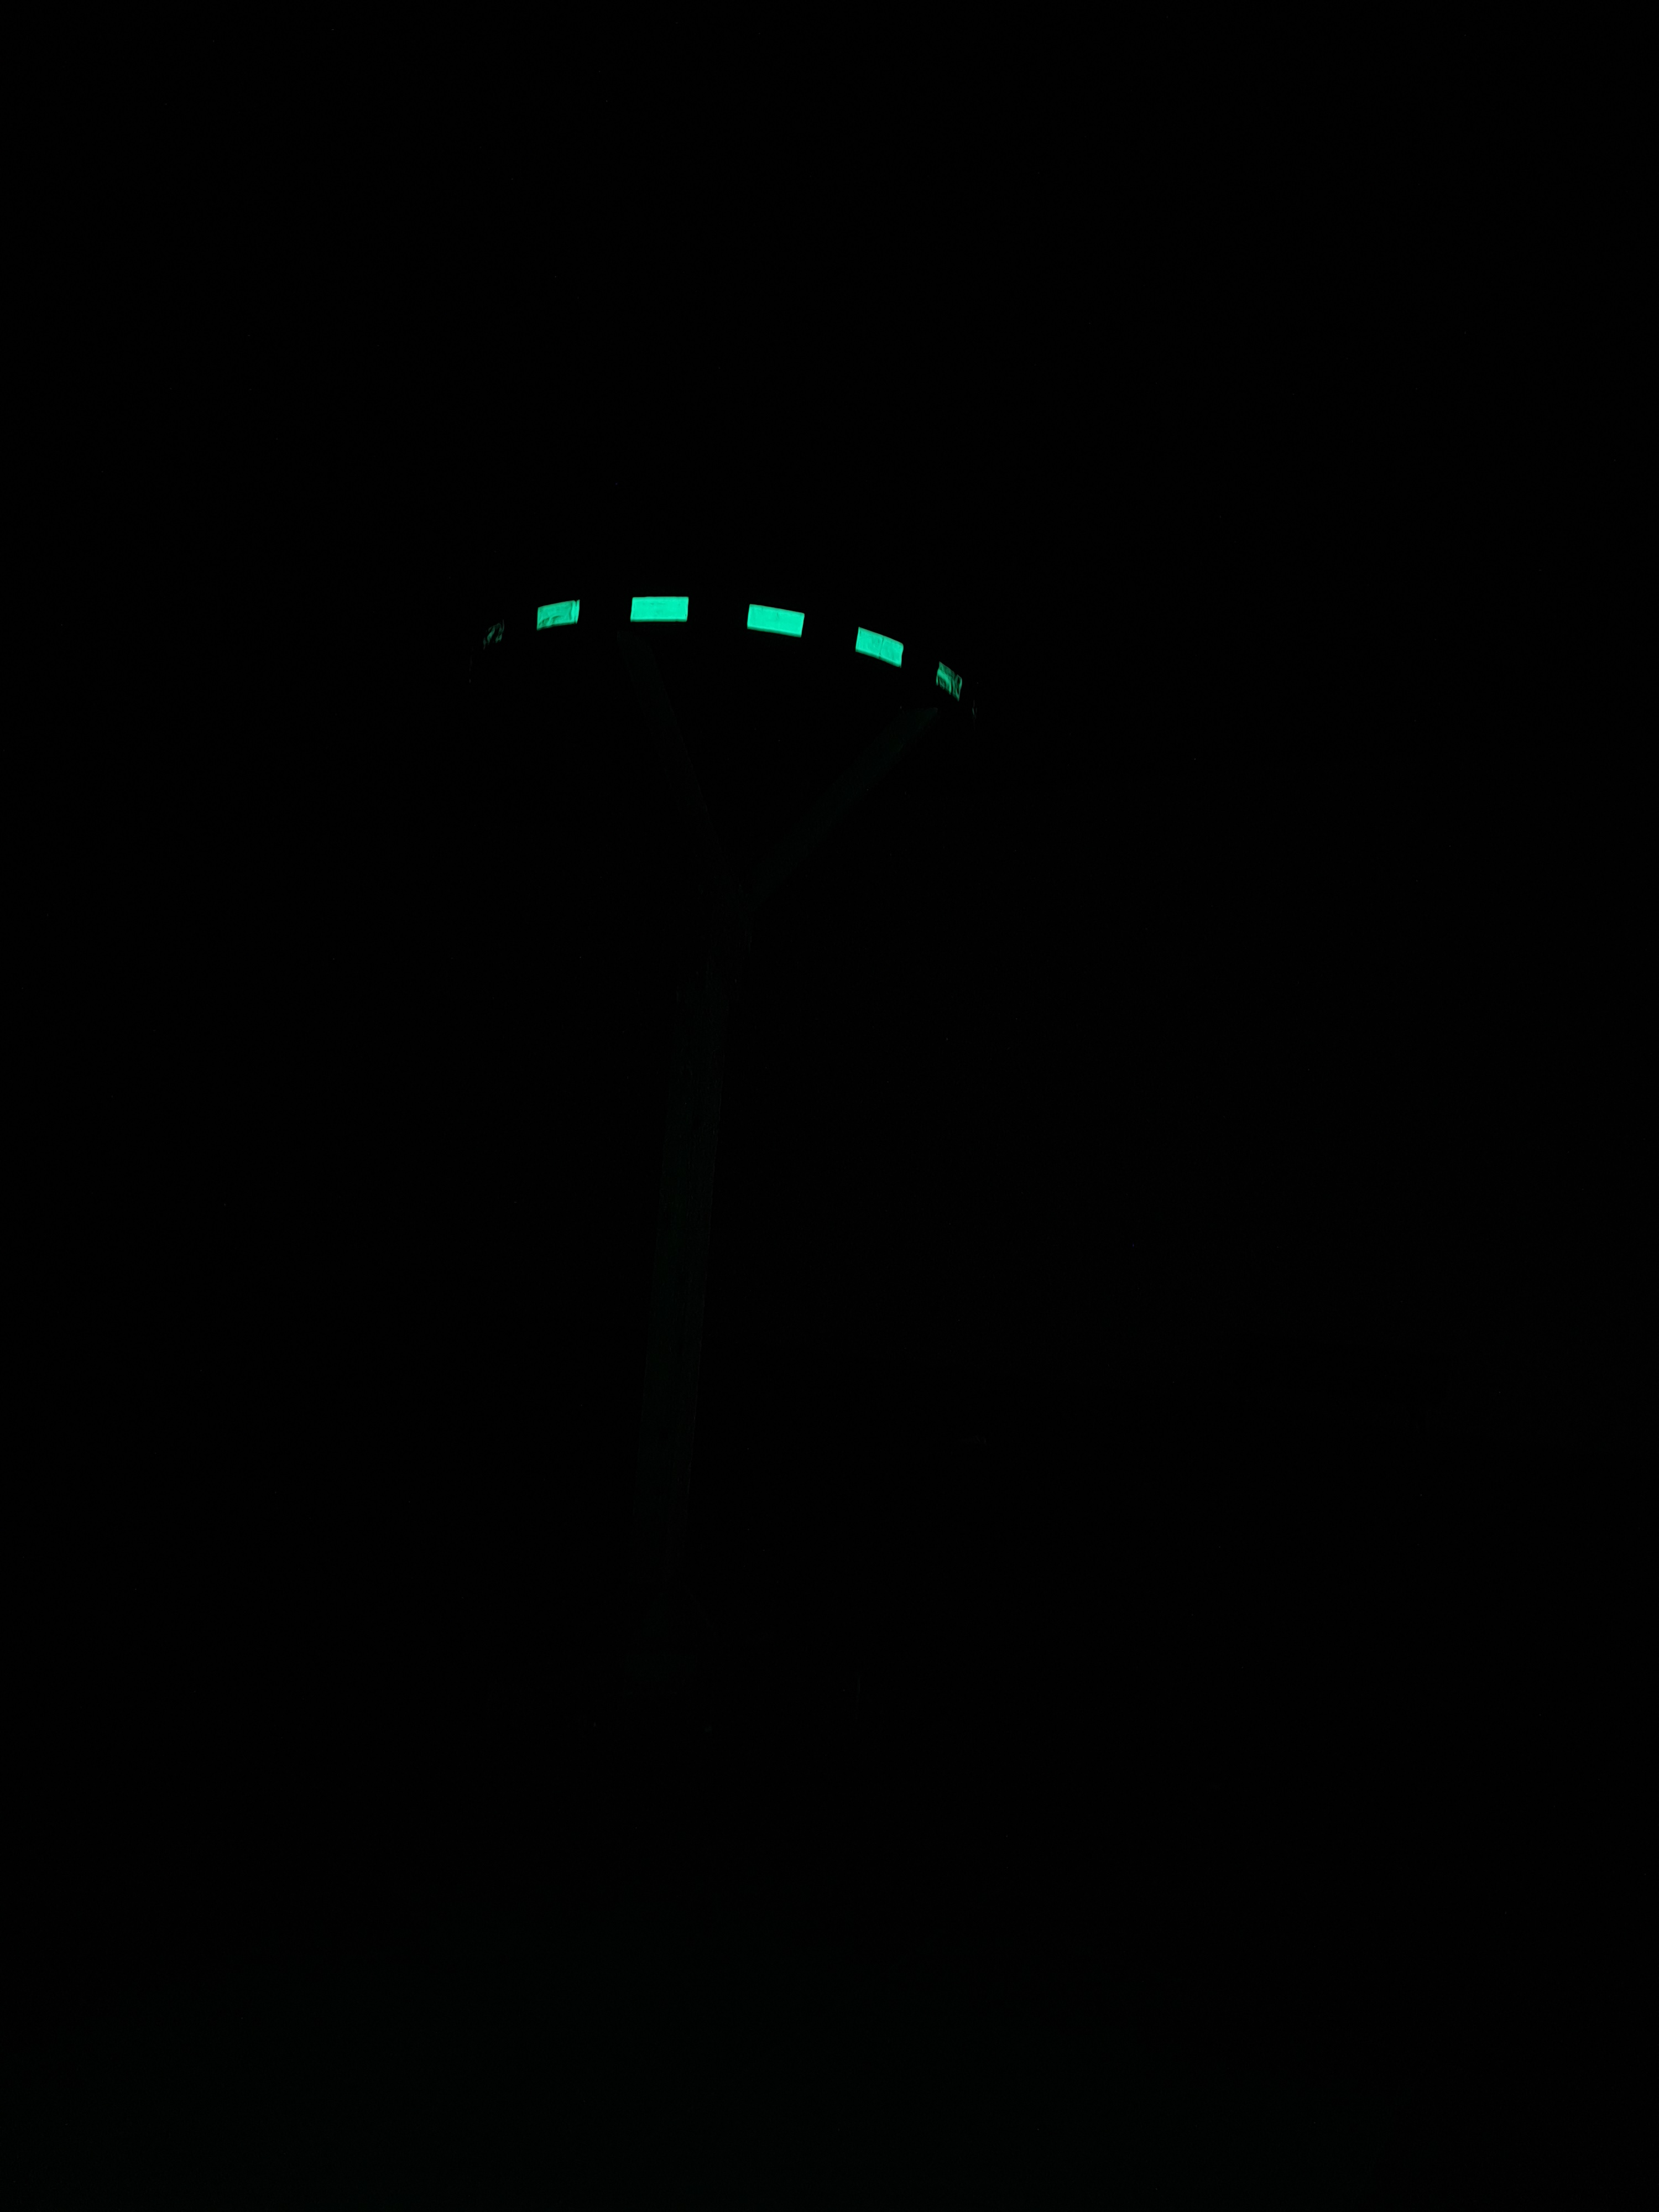hoop: (444, 556, 990, 723)
